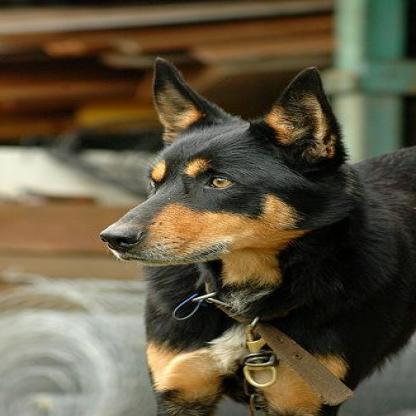kelpie: (96, 58, 411, 414)
